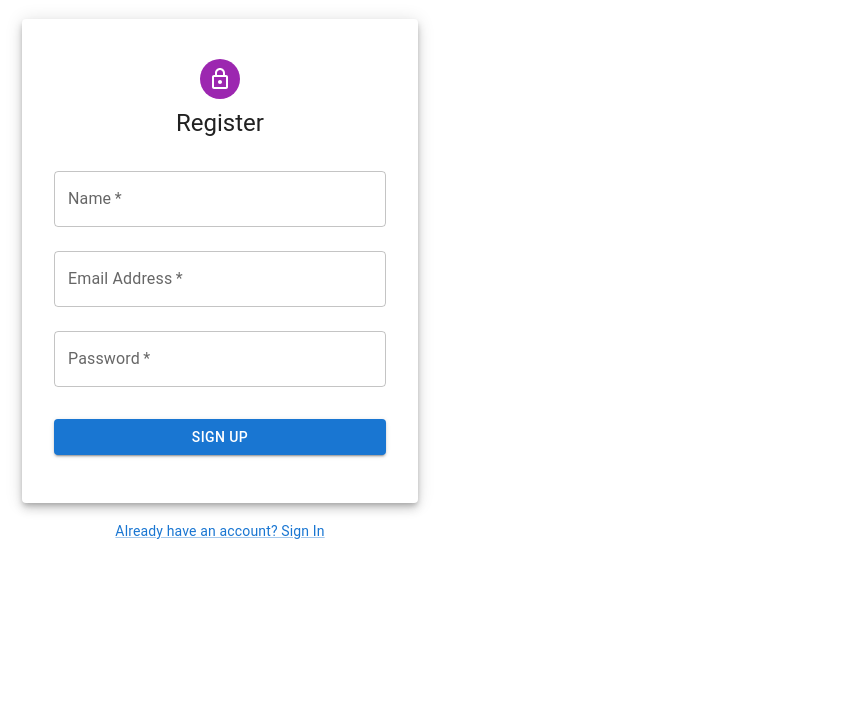
Test: Register Page › shows error snackbar when required fields are empty
The image size is (853, 724).
Step 1. Click the button "Sign Up" → (220, 437), box left=54, top=419, right=386, bottom=455
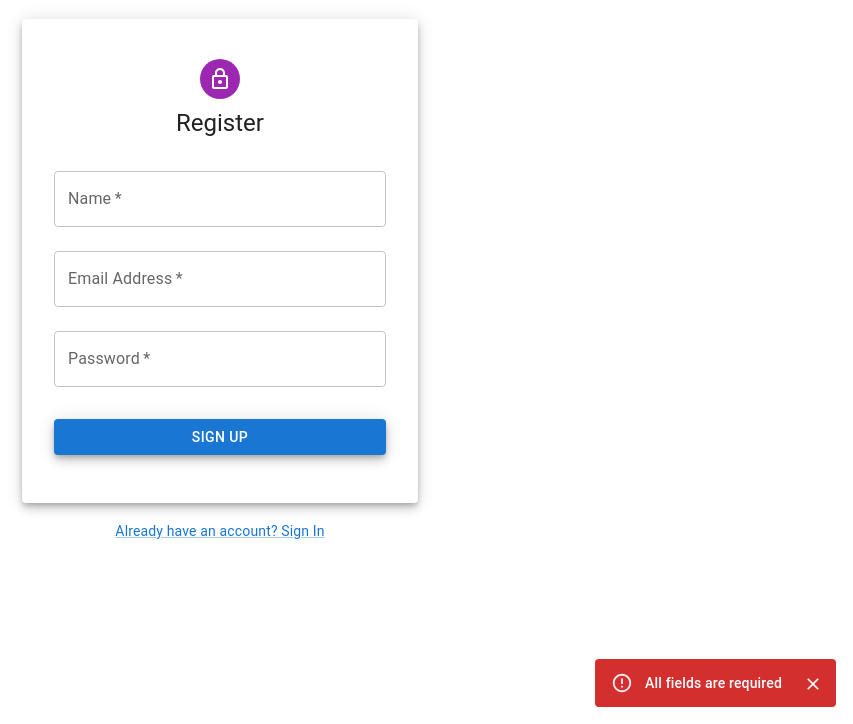
Result: the text "All fields are required" is shown at left=645, top=675, right=782, bottom=691
